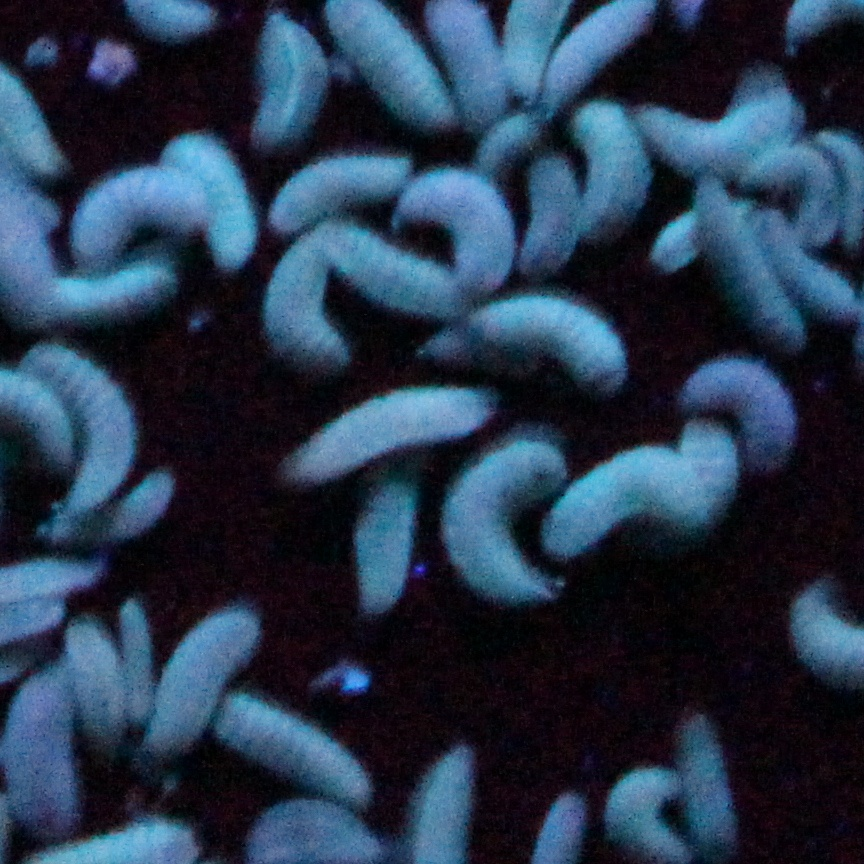larve: (291, 385, 490, 495), (450, 439, 567, 614), (212, 692, 388, 807), (142, 612, 264, 758), (562, 440, 701, 557), (700, 198, 803, 352), (37, 353, 141, 501), (477, 303, 633, 392), (53, 168, 198, 253), (268, 242, 353, 386), (406, 175, 515, 287), (687, 362, 800, 470), (568, 104, 655, 242), (170, 138, 257, 273), (651, 95, 814, 163), (11, 660, 73, 822), (261, 156, 412, 222), (433, 0, 504, 131), (247, 16, 319, 143), (354, 493, 424, 611), (750, 150, 860, 225), (56, 260, 181, 325), (673, 719, 738, 841), (521, 150, 582, 272), (60, 629, 123, 741), (108, 602, 155, 719)
